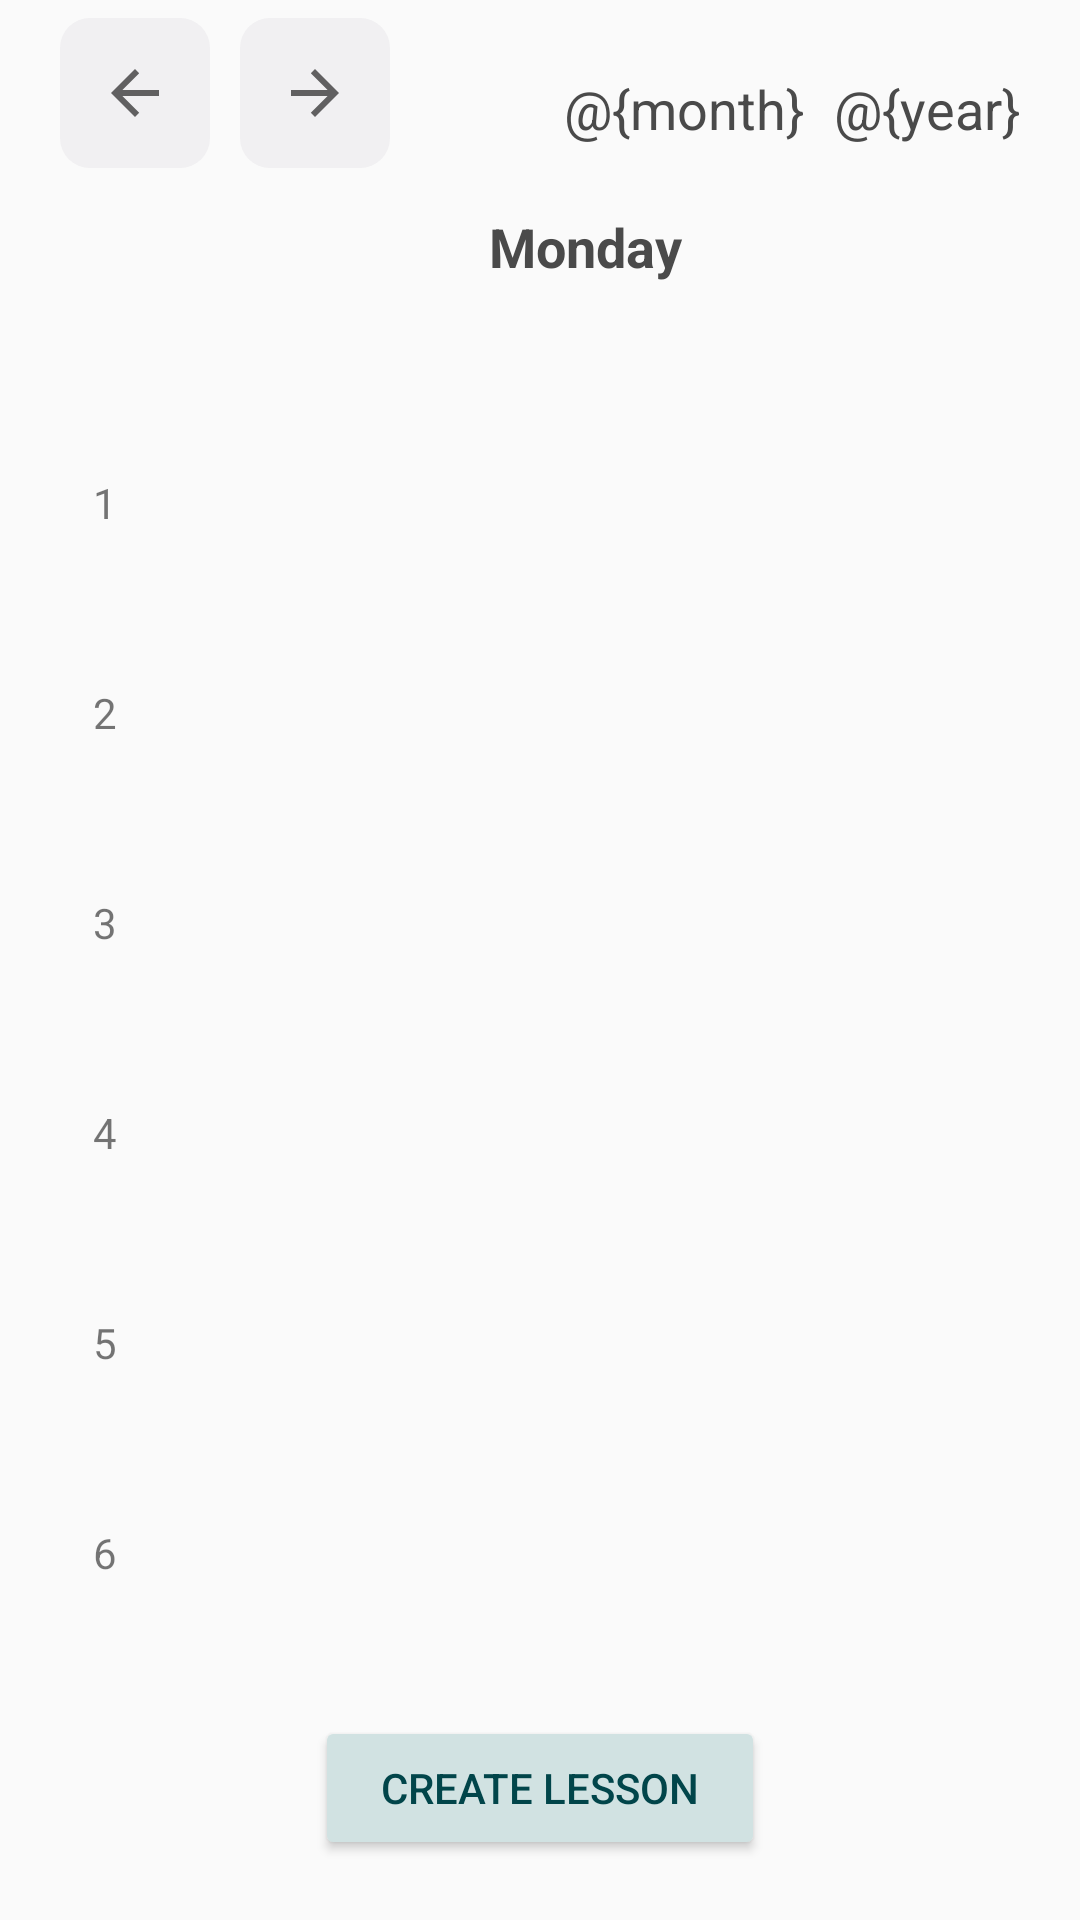

Where to tap for icons on this 1080x1920 app screen, as (x,y):
Prev week: (135,93)
